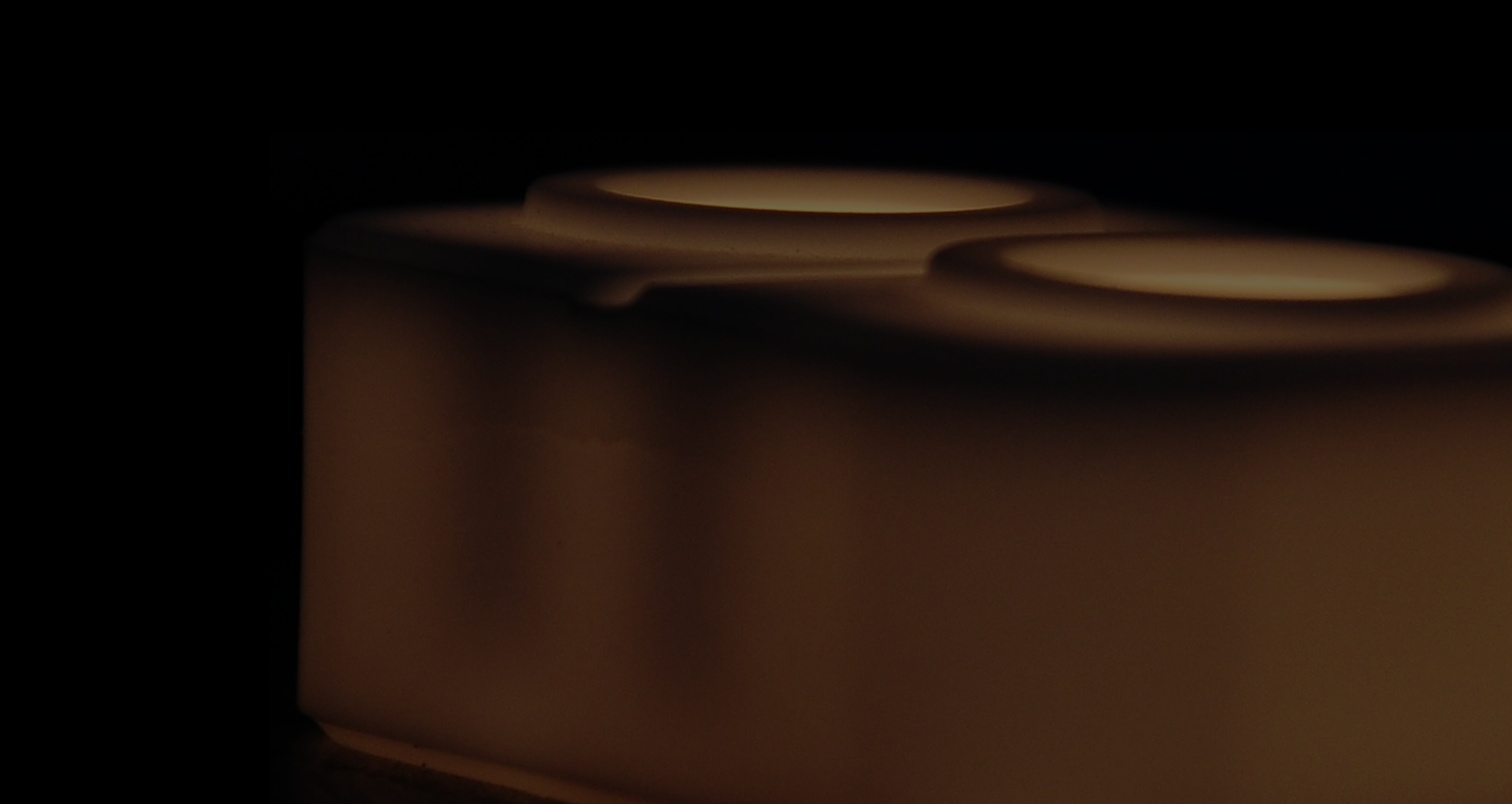flaw: (338, 405, 752, 494)
